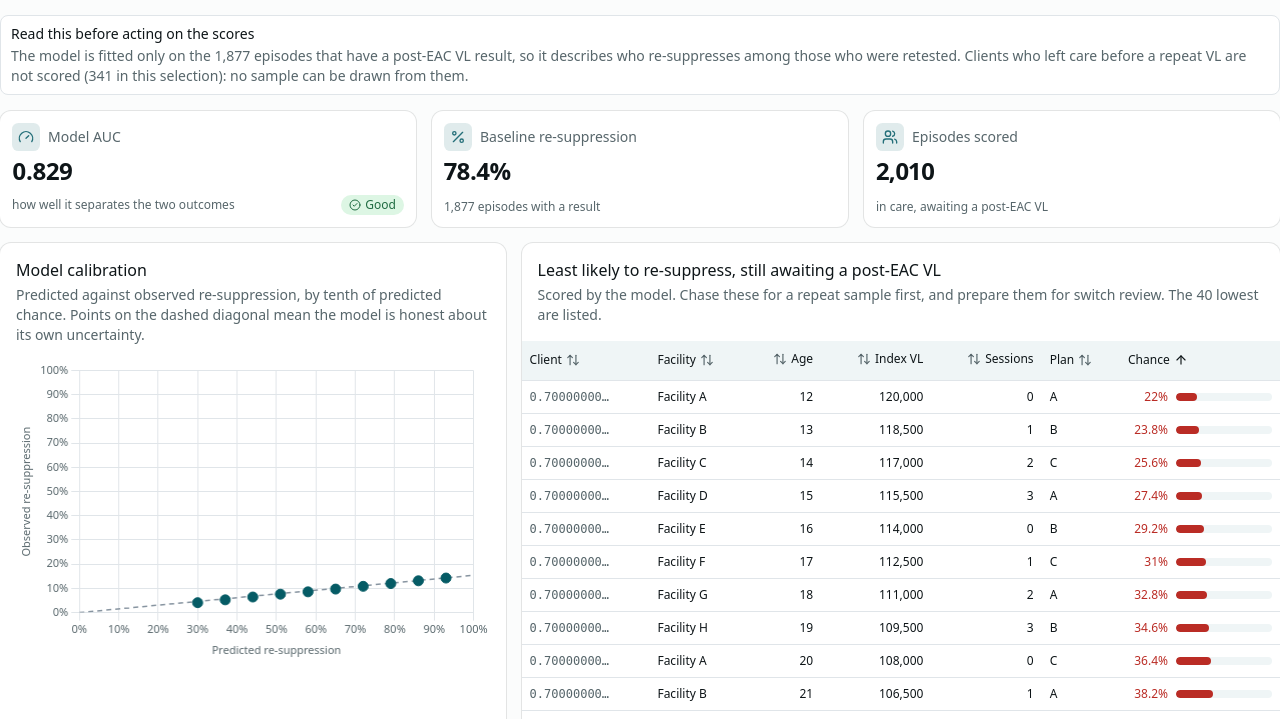
Test: Advanced analytics page › says who is not scored, and lists the lowest chance first
(page scrolled)
Check: the text "Clients who left care before a repeat VL are not scored (341 in this selection)" is shown, box [11,46,1269,86]
Check: the row "0.70000000… Facility A 12 120,000 0 A 22%" is shown, box [522,380,1279,414]
Click the button "Chance" at (1158, 360), box [1128,352,1188,368]
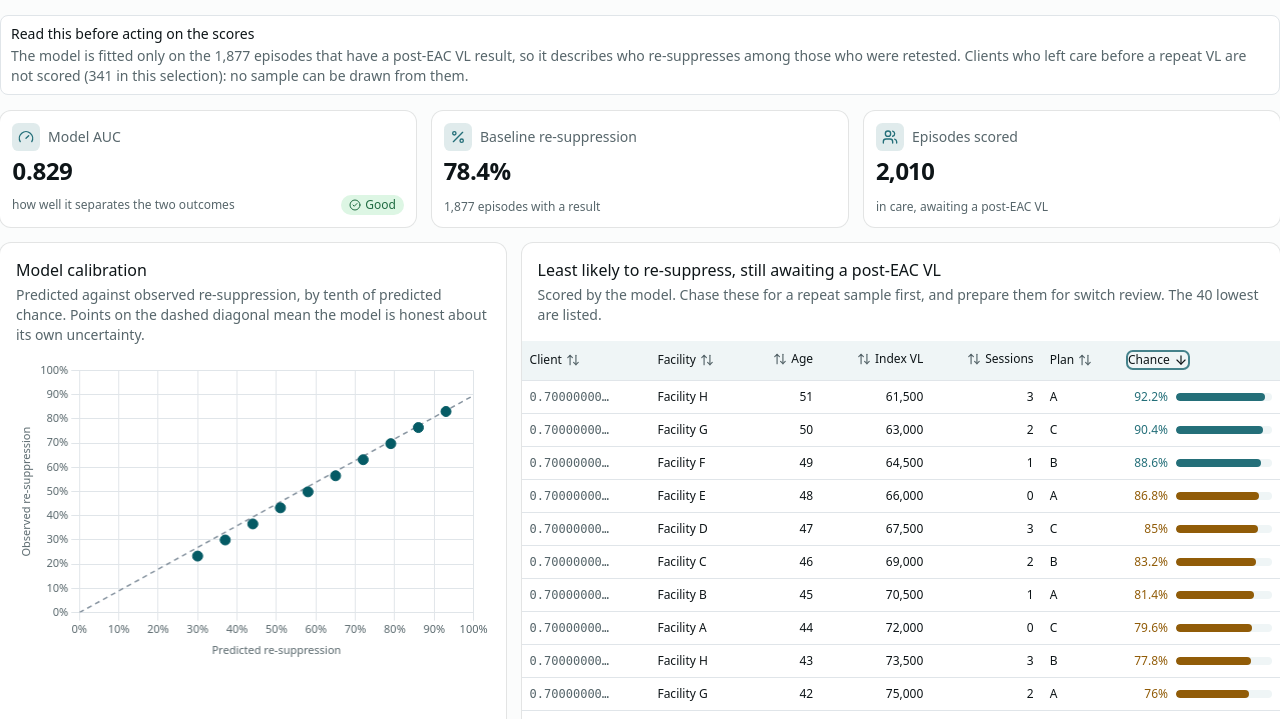
Check: the row "0.70000000… Facility H 51 61,500 3 A 92.2%" no longer shows "22%", box [522,380,1279,414]
